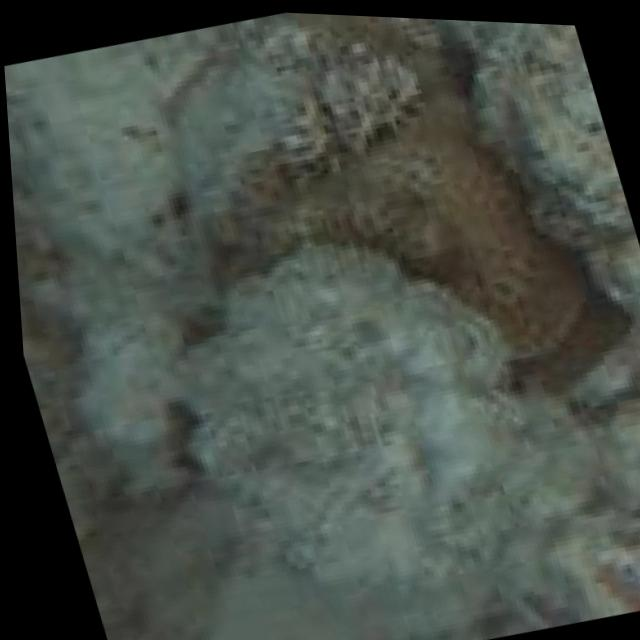Healthy Coral: (289, 73, 609, 414)
